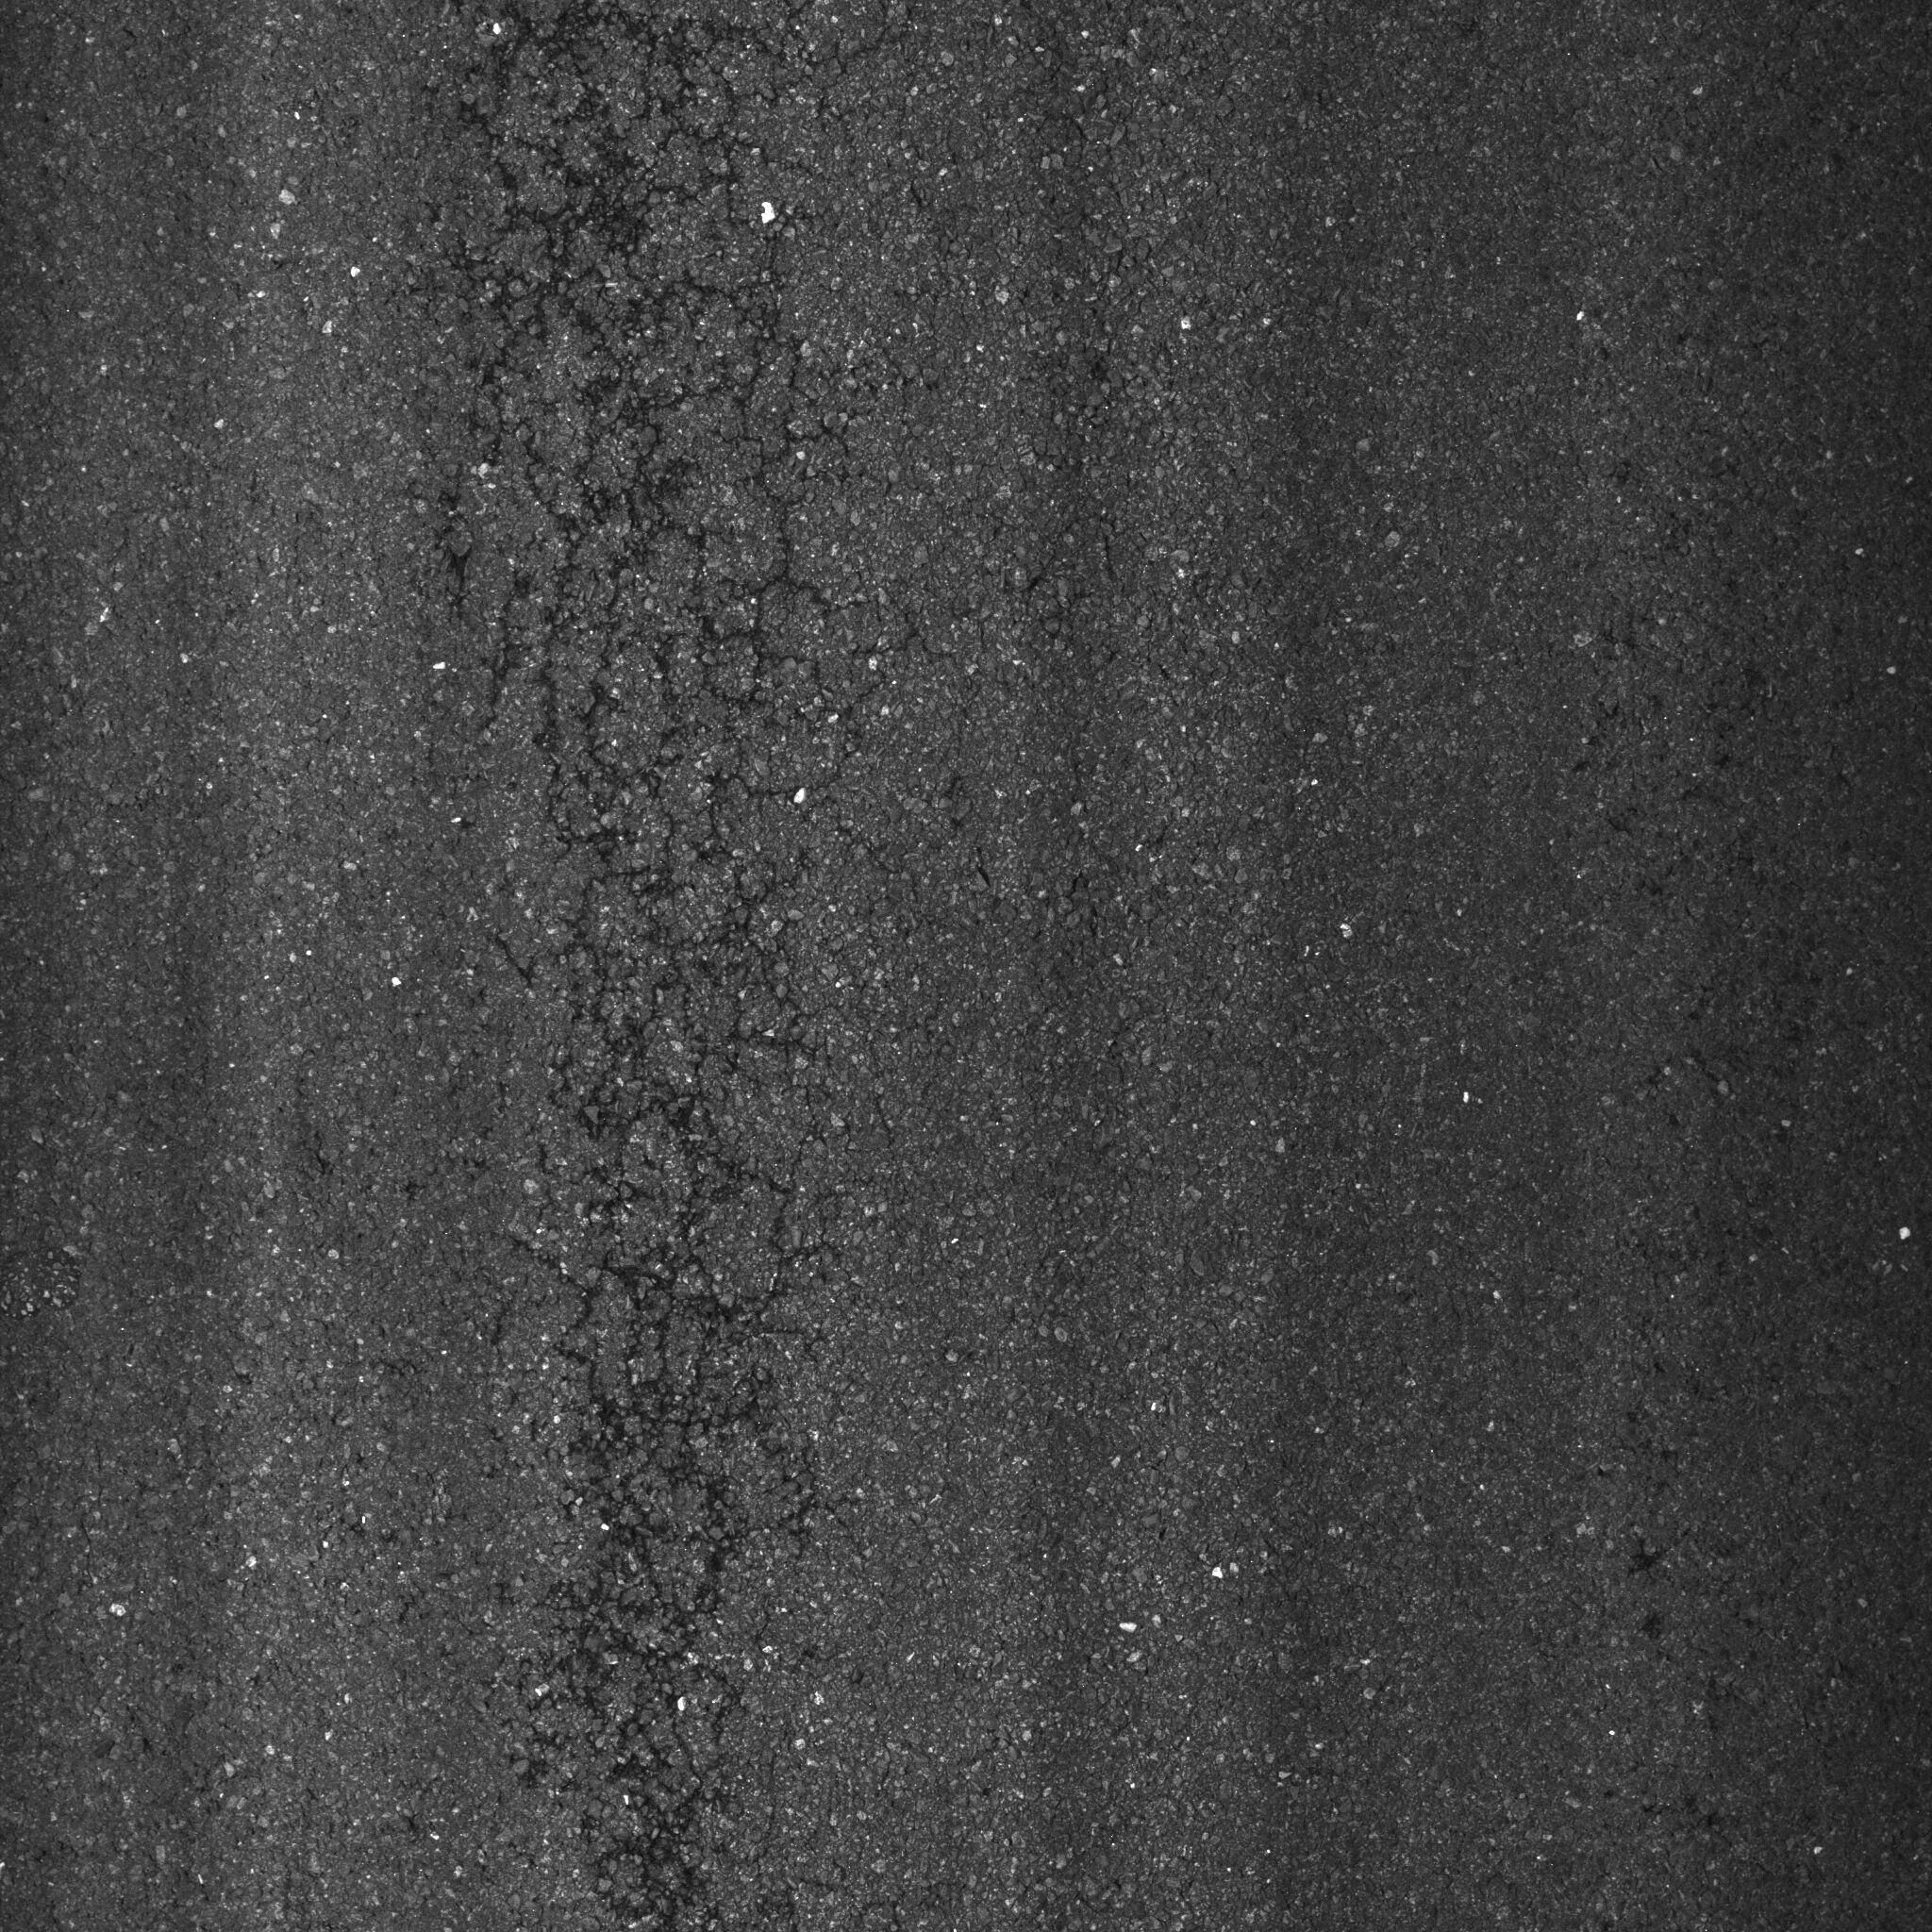alligator: (333, 5, 957, 1932)
